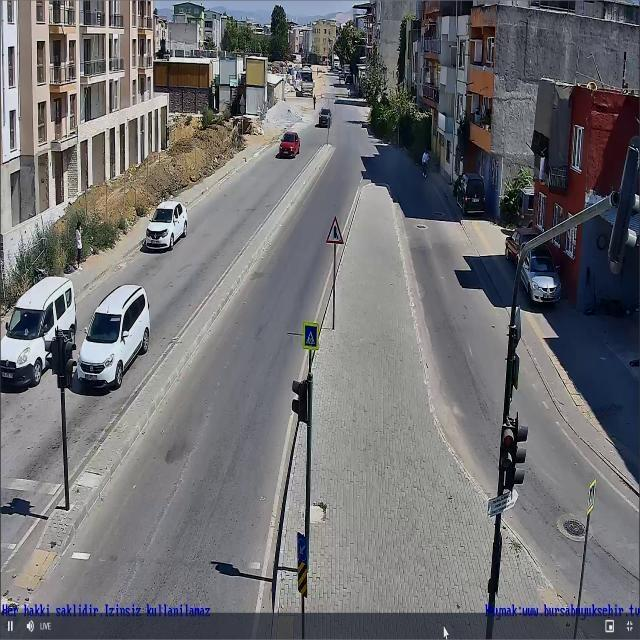Car: (71, 286, 159, 390), (141, 191, 187, 253), (272, 129, 310, 167), (311, 96, 339, 134)
Van: (0, 281, 80, 386)
